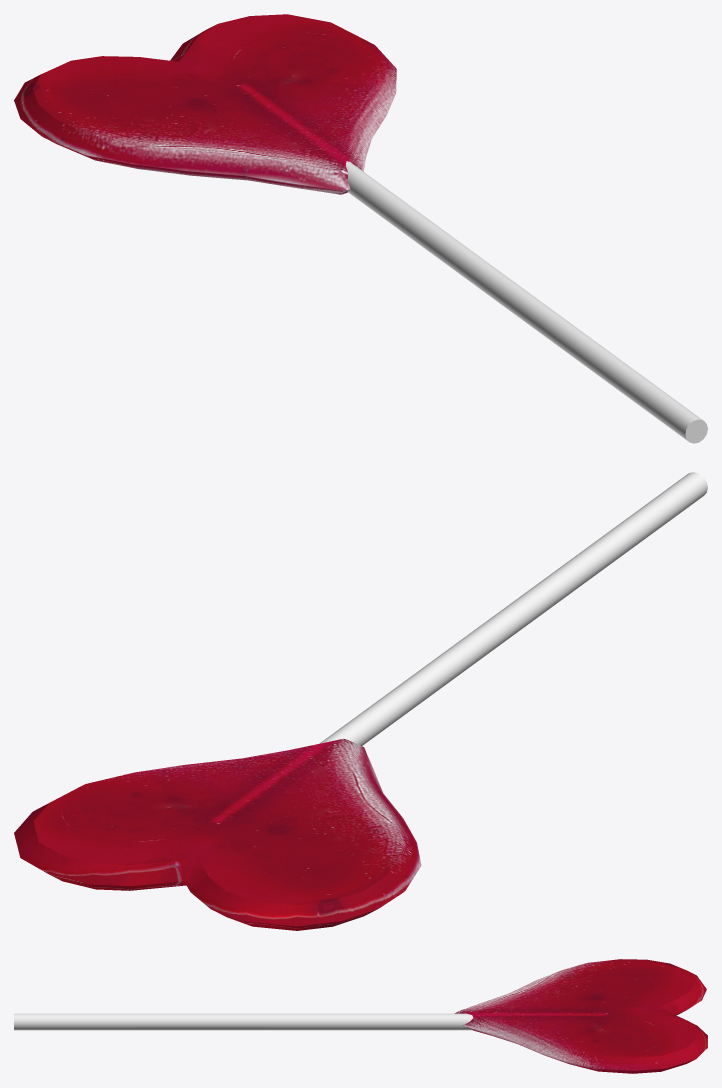
The model's file is sp_lollipop_4.FBX.
3 views of the same model, one above another, from view 1: azimuth 30°, elevation 25°; view 2: azimuth 150°, elevation 25°; view 3: azimuth 270°, elevation 25° (orthographic). The views are drawn at different scales.
Visible parts, largest first — view 1: sp_lollipop_4; view 2: sp_lollipop_4; view 3: sp_lollipop_4.
Boxes of the visible parts, x1,y1,x2,y2 form: sp_lollipop_4: [14, 14, 707, 443]; sp_lollipop_4: [14, 472, 707, 930]; sp_lollipop_4: [14, 959, 707, 1073].
Size of the model in its own units: 1.8 by 4.84 by 0.122.
